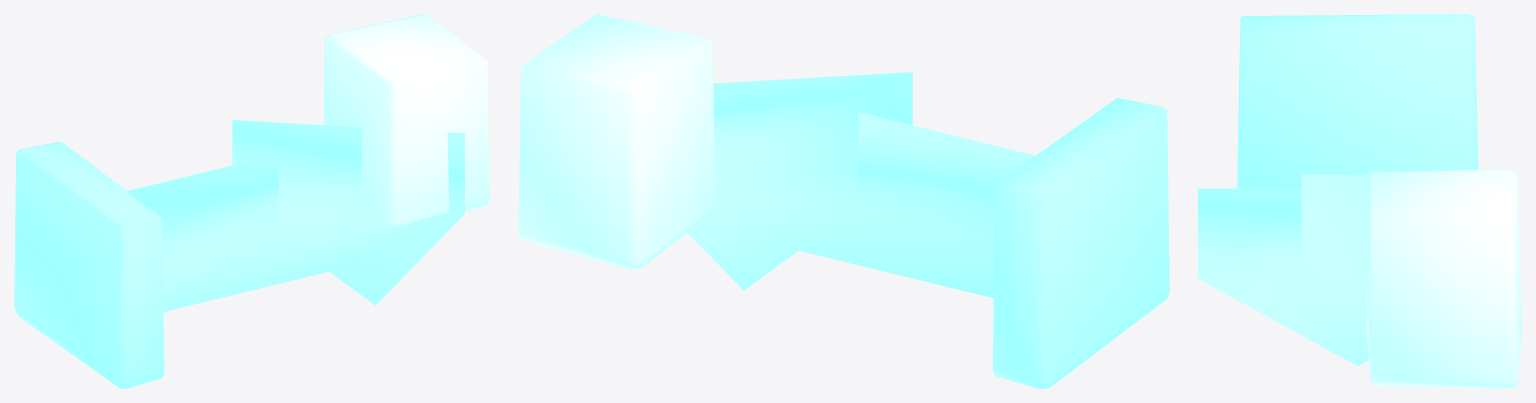
File: 40_list_link_10_20.glb
The picture shows the model from 3 angles, left to right: view 1: azimuth 30°, elevation 25°; view 2: azimuth 150°, elevation 25°; view 3: azimuth 270°, elevation 25°; orthographic projection. The views are drawn at different scales.
Visible parts, largest first — view 1: ArrowBody, SourceFlange, TargetPortGlow; view 2: ArrowBody, TargetPortGlow, SourceFlange; view 3: SourceFlange, TargetPortGlow, ArrowBody.
Part boxes in pixels (x1,y1,x2,y2): ArrowBody: [127, 120, 464, 311]; SourceFlange: [14, 142, 164, 388]; TargetPortGlow: [323, 14, 489, 226]; ArrowBody: [685, 72, 1035, 297]; TargetPortGlow: [518, 14, 715, 269]; SourceFlange: [993, 98, 1169, 388]; SourceFlange: [1237, 14, 1478, 188]; TargetPortGlow: [1366, 169, 1521, 388]; ArrowBody: [1198, 174, 1370, 365].
Bounding box in the file's own units: 0.6475 × 0.27 × 0.375.
